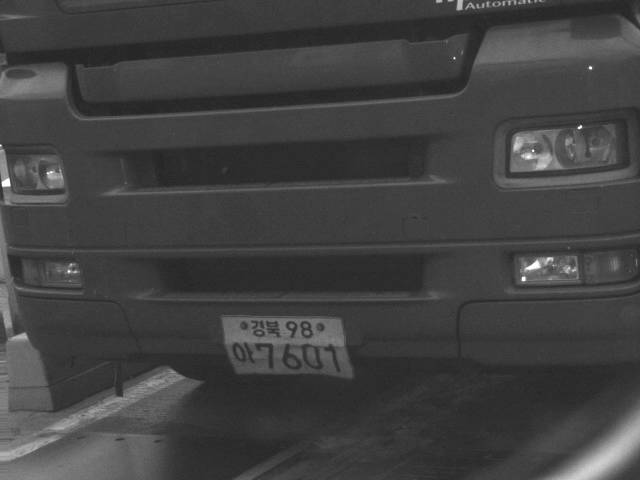car: (1, 1, 640, 384)
plate: (219, 314, 357, 381)
